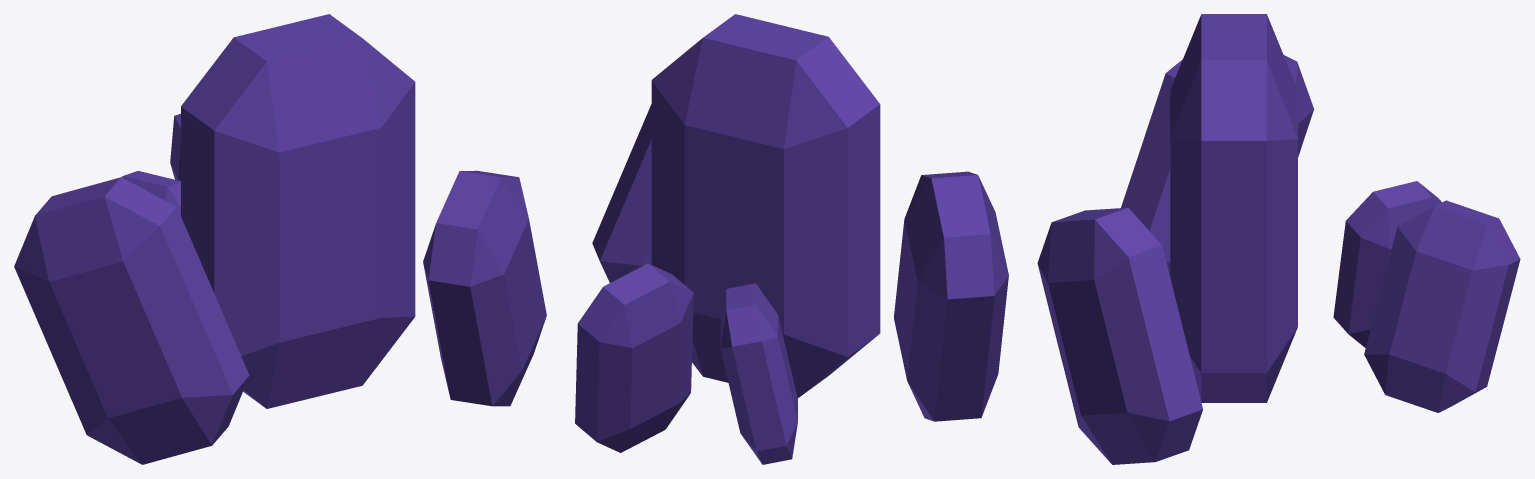
The model's file is nat_crystal_cluster_1.glb.
3 views of the same model, side by side, from view 1: azimuth 30°, elevation 25°; view 2: azimuth 150°, elevation 25°; view 3: azimuth 270°, elevation 25° (orthographic). The views are drawn at different scales.
Visible parts, largest first — view 1: nat_crystal_cluster_1; view 2: nat_crystal_cluster_1; view 3: nat_crystal_cluster_1.
Part boxes in pixels (x1,y1,x2,y2): nat_crystal_cluster_1: (14, 14, 546, 464); nat_crystal_cluster_1: (575, 14, 1008, 464); nat_crystal_cluster_1: (1037, 14, 1520, 464).
Size of the model in its own units: 2.44 by 1.8 by 2.2.
